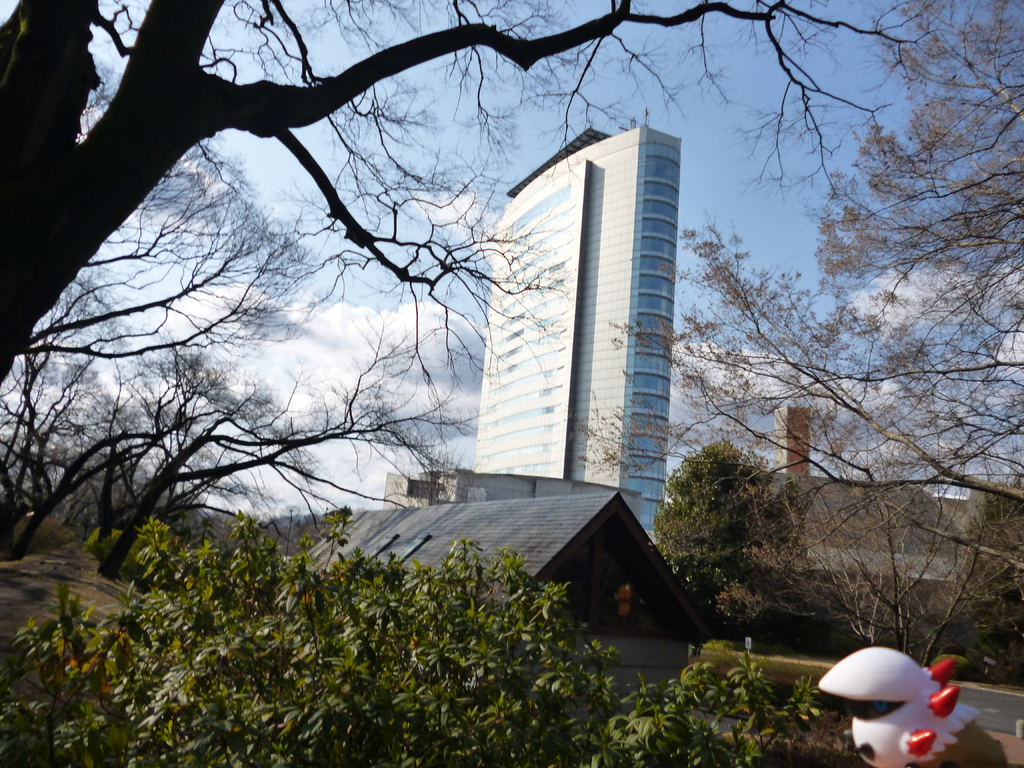Tree: (0, 328, 1023, 767), (0, 0, 942, 394), (572, 5, 1020, 563)
